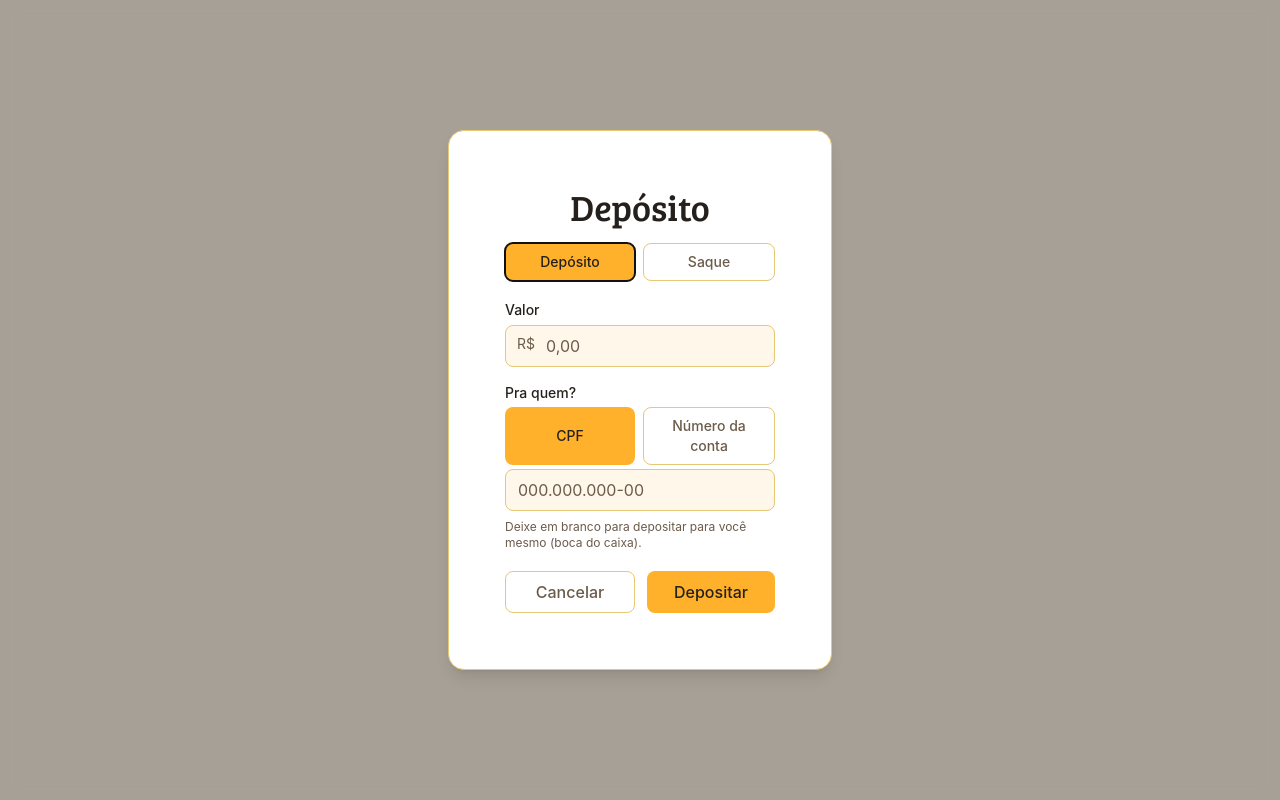
Test case: MovementModal › deposita por CPF: envia valor + CPF, mostra confirmação com o novo saldo
The image size is (1280, 800).
Type "5050" into the field with placeholder "0,00" at (640, 346), box left=505, top=325, right=775, bottom=367
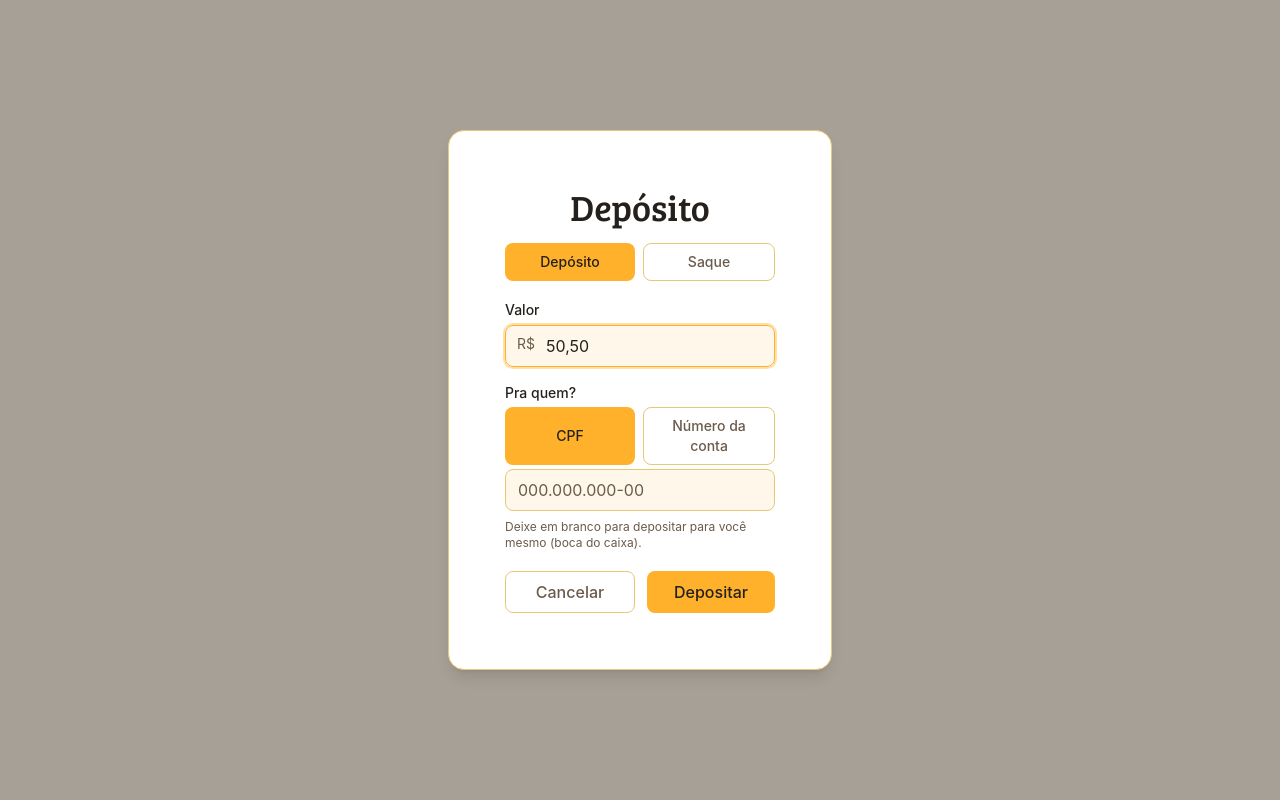
Type "11122233344" into the field with placeholder "000.000.000-00" at (640, 490), box left=505, top=469, right=775, bottom=511
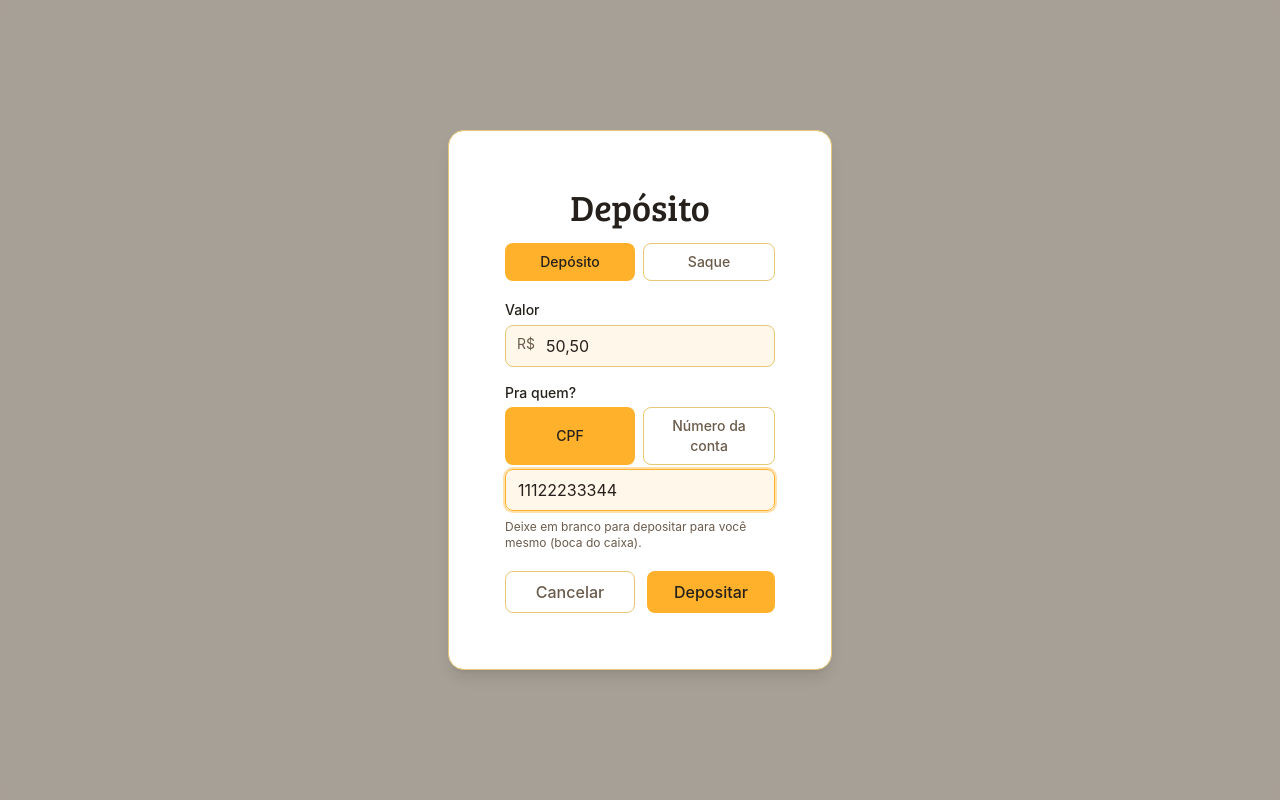
Click the button "Depositar" at (711, 592), box left=647, top=571, right=775, bottom=613
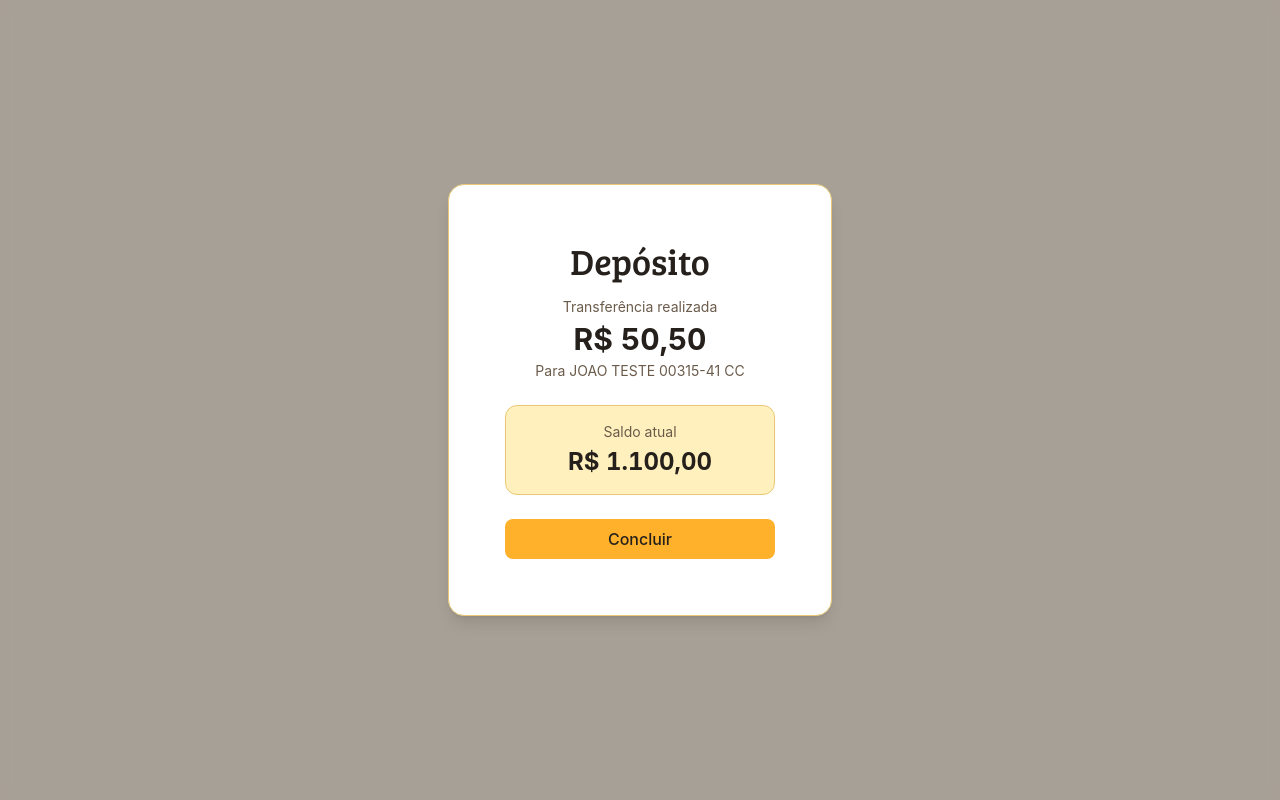
Expected: the text "Transferência realizada" is shown, left=563, top=298, right=717, bottom=315
Expected: the text "Para JOAO TESTE 00315-41 CC" is shown, left=535, top=362, right=745, bottom=379
Expected: the text "R$ 50,50" is shown, left=574, top=321, right=706, bottom=357
